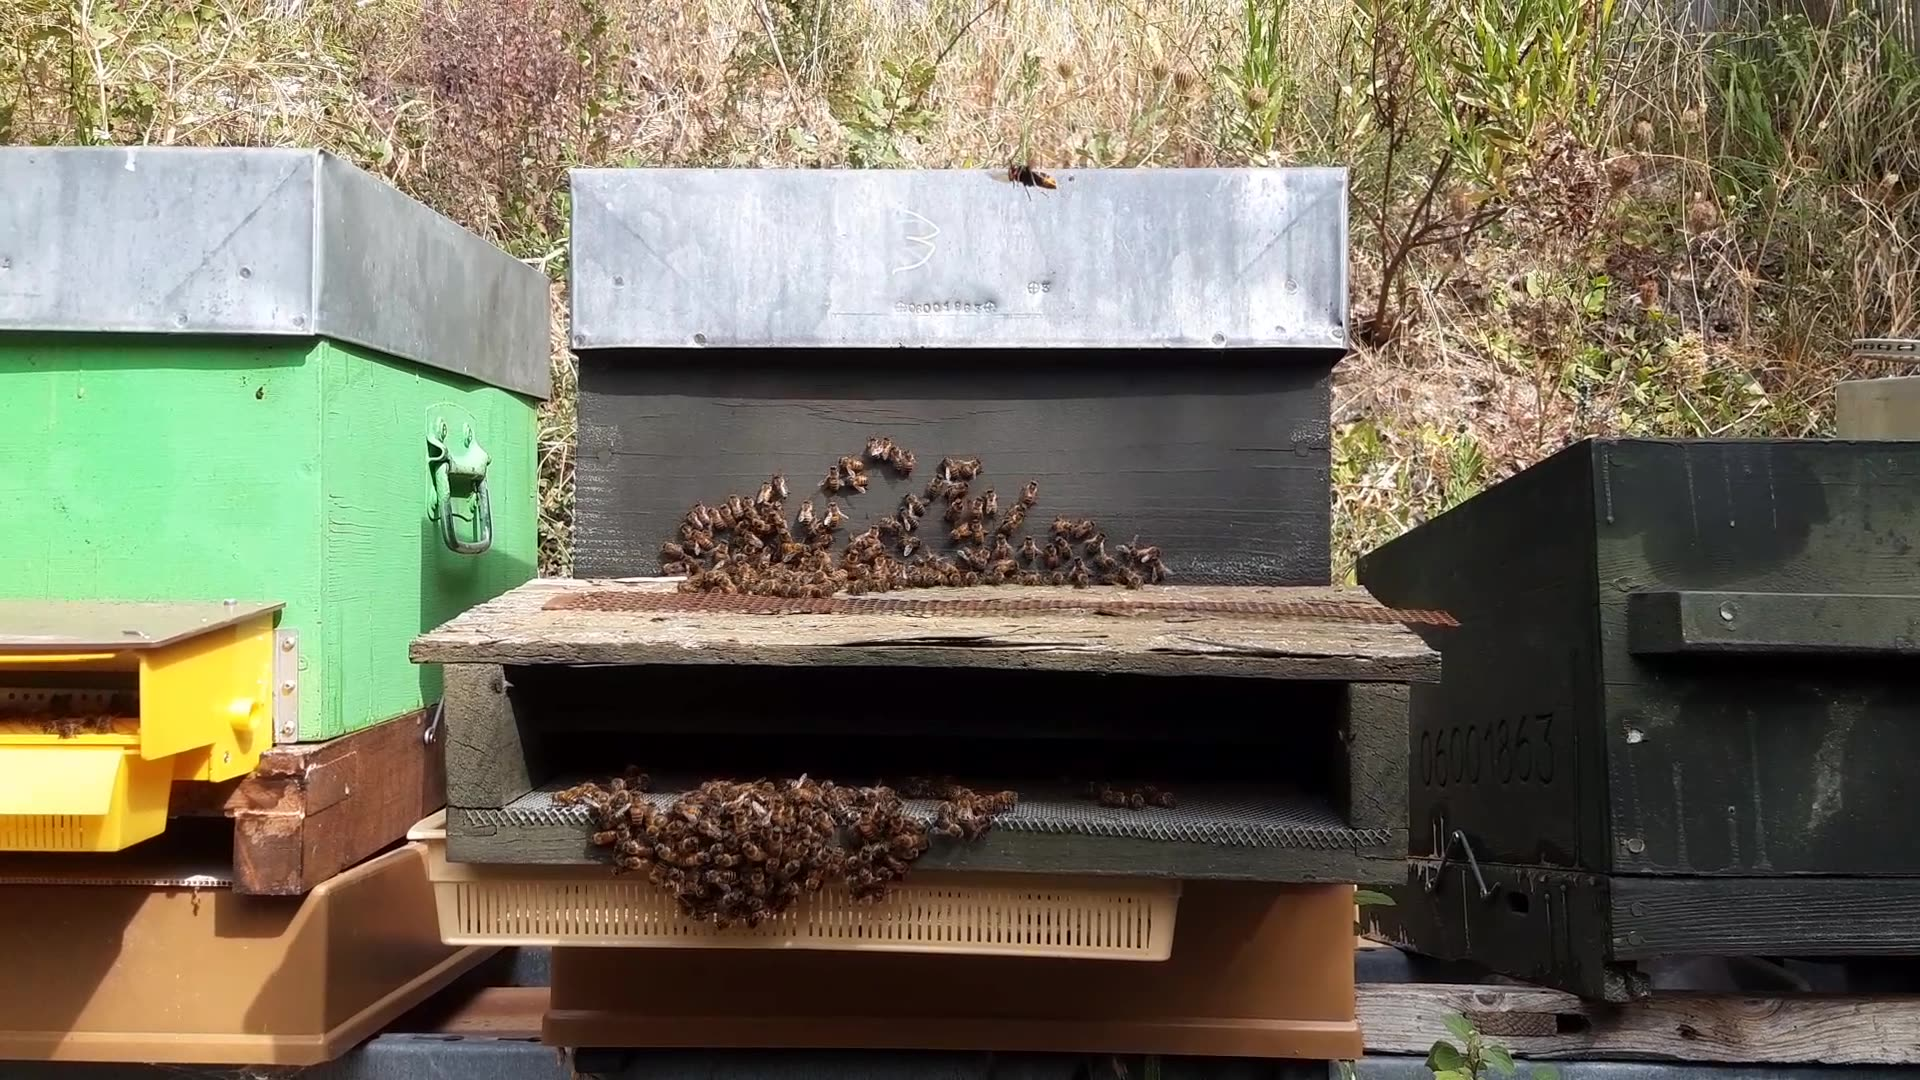bee: (905, 785, 1011, 853), (807, 862, 897, 942), (655, 874, 731, 940), (845, 531, 922, 595), (1034, 520, 1122, 574), (931, 526, 1005, 588), (1336, 306, 1399, 376), (593, 778, 676, 831), (723, 781, 800, 836), (560, 790, 632, 843), (835, 454, 916, 497), (949, 477, 1011, 527), (731, 505, 794, 554), (771, 488, 825, 526)
